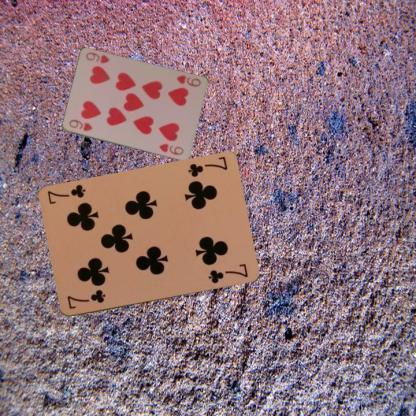7c: (185, 154, 229, 178), (64, 287, 107, 311)
9h: (173, 72, 202, 89), (66, 118, 94, 132)
